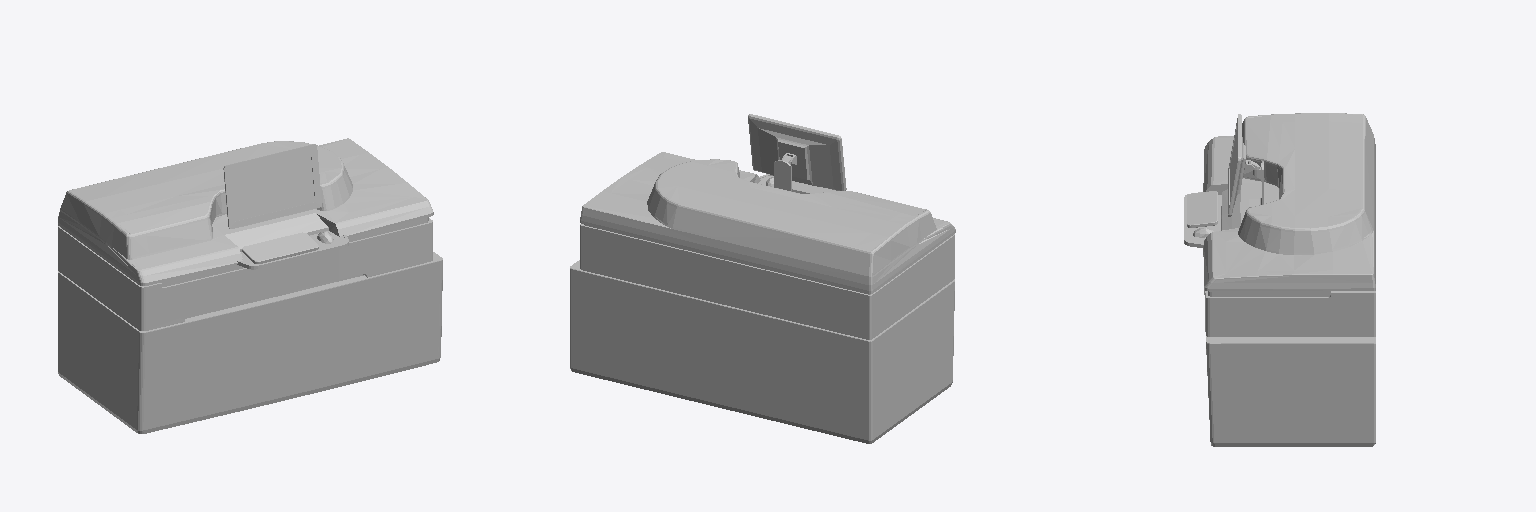
The model's file is ADVIA Chemistry XPT.obj.
The picture shows the model from 3 angles: view 1: azimuth 30°, elevation 25°; view 2: azimuth 150°, elevation 25°; view 3: azimuth 270°, elevation 25°; orthographic projection.
Parts seen in each view (by area): view 1: object1; view 2: object1; view 3: object1.
Boxes of the visible parts, x1,y1,x2,y2 form: object1: [58, 138, 442, 433]; object1: [570, 114, 955, 443]; object1: [1184, 113, 1375, 446].
Bounding box in the file's own units: 70.8 × 52.45 × 38.97.